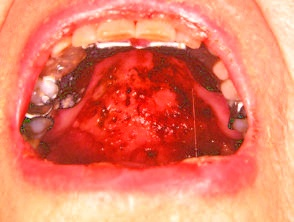SJS-TEN: (2, 0, 292, 222)
